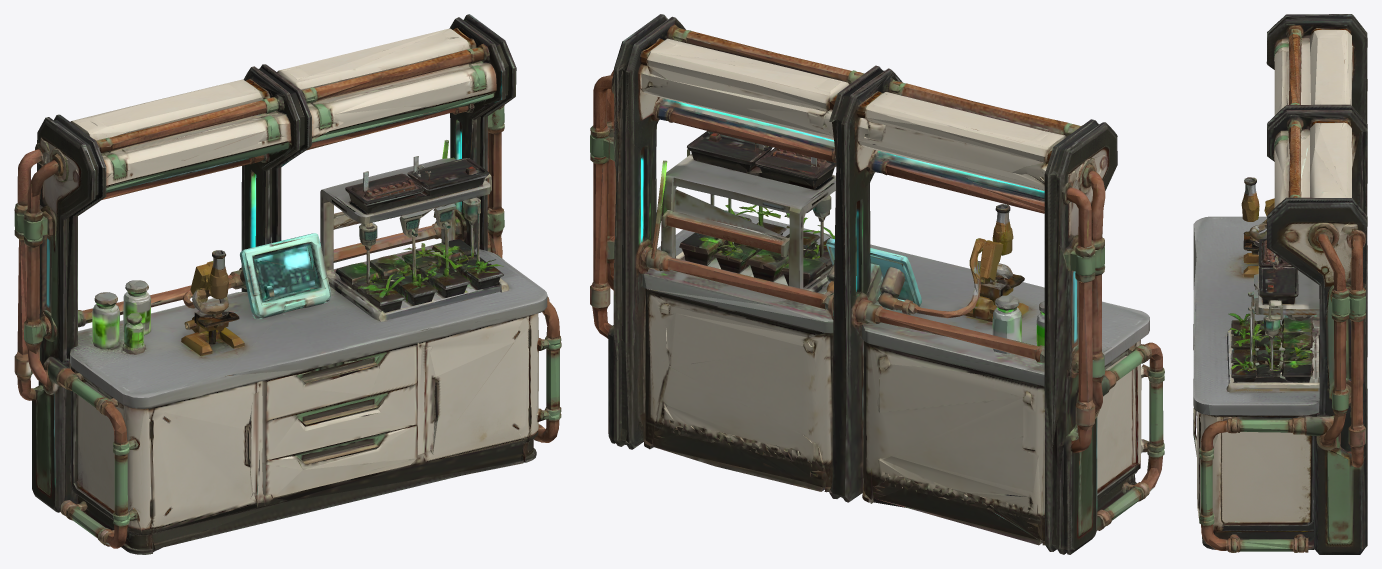
The model's file is botany-lab-bench.glb.
3 renders of one model, left to right at view 1: azimuth 30°, elevation 25°; view 2: azimuth 150°, elevation 25°; view 3: azimuth 270°, elevation 25°, orthographic. The views are drawn at different scales.
Visible parts, largest first — view 1: botany_lab_bench_000; view 2: botany_lab_bench_000; view 3: botany_lab_bench_000.
Boxes of the visible parts, left/top/right/bottom form: botany_lab_bench_000: left=14, top=14, right=561, bottom=554; botany_lab_bench_000: left=590, top=14, right=1164, bottom=554; botany_lab_bench_000: left=1193, top=14, right=1367, bottom=554.
Size of the model in its own units: 2.34 by 1.8 by 0.8084.
1 material, 1 textured.
